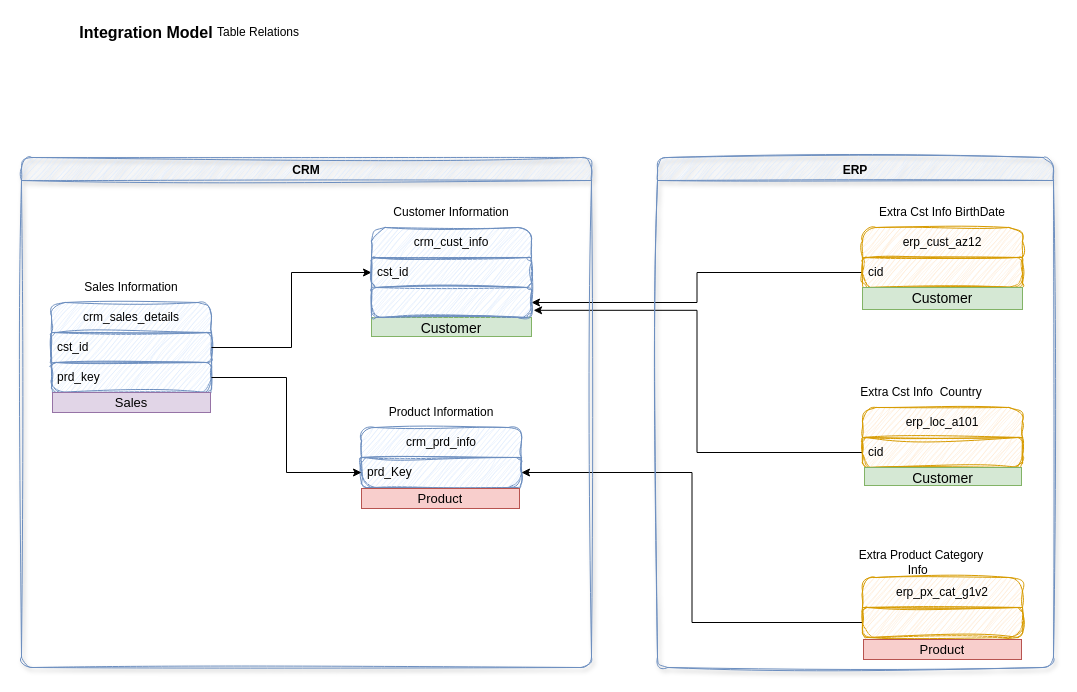
The diagram is 1077 pixels wide and 692 high, and some of its shapes have lost their labels. Each missing label, with the centre of its shape:
"cst_Key" goes at (451,302).
"id" goes at (942,622).
